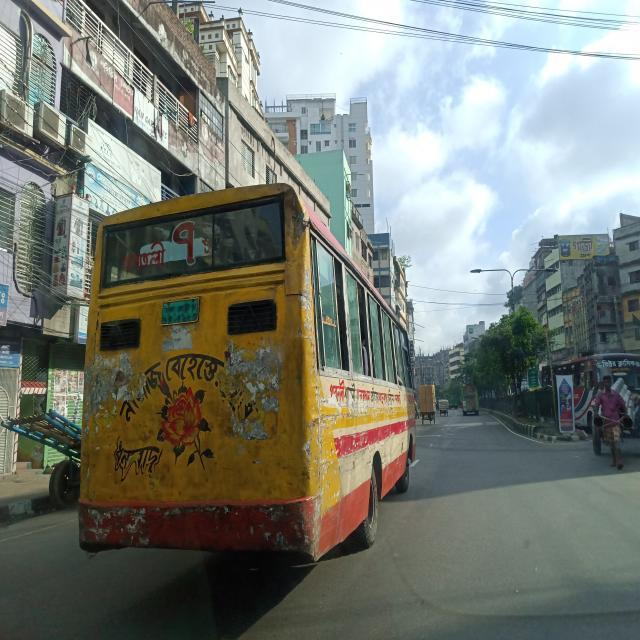bus: (78, 183, 415, 565)
